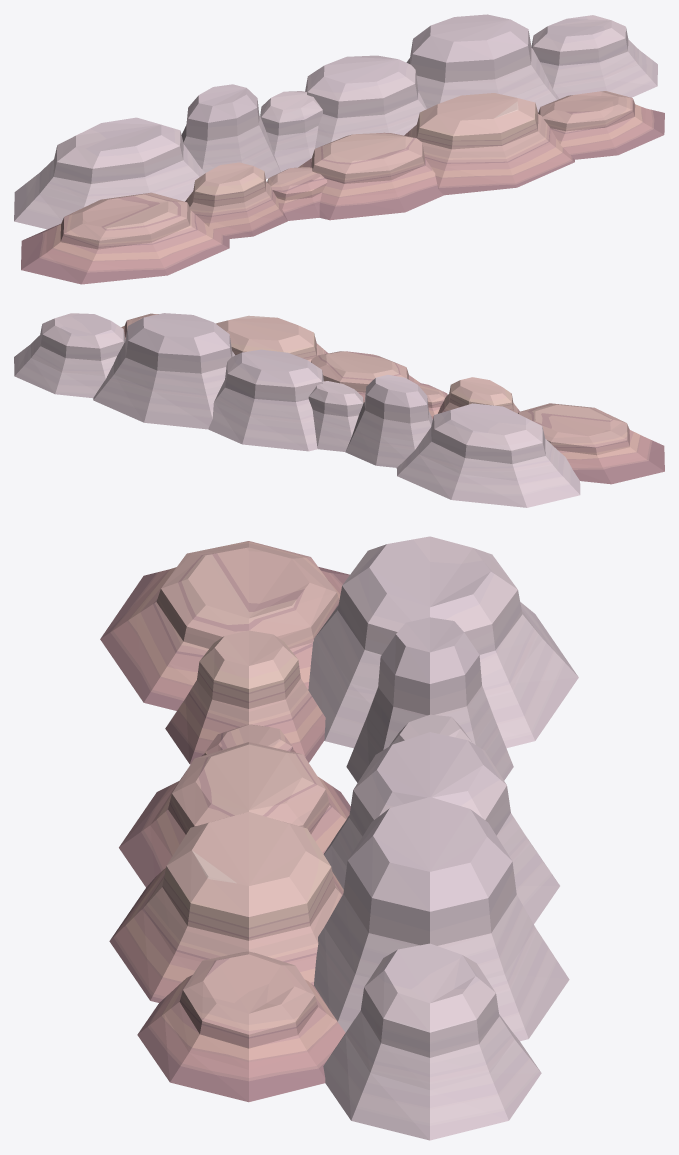
File: StratifiedBluffs.glb
The picture shows the model from 3 angles, top to bottom: view 1: azimuth 30°, elevation 25°; view 2: azimuth 150°, elevation 25°; view 3: azimuth 270°, elevation 25°; orthographic projection. The views are drawn at different scales.
Parts seen in each view (by area): view 1: StratifiedBluffs; view 2: StratifiedBluffs; view 3: StratifiedBluffs.
Boxes of the visible parts, left/top/right/bottom form: StratifiedBluffs: left=14, top=14, right=664, bottom=284; StratifiedBluffs: left=14, top=313, right=664, bottom=507; StratifiedBluffs: left=100, top=536, right=578, bottom=1140.
Size of the model in its own units: 139 by 16.25 by 47.57.
